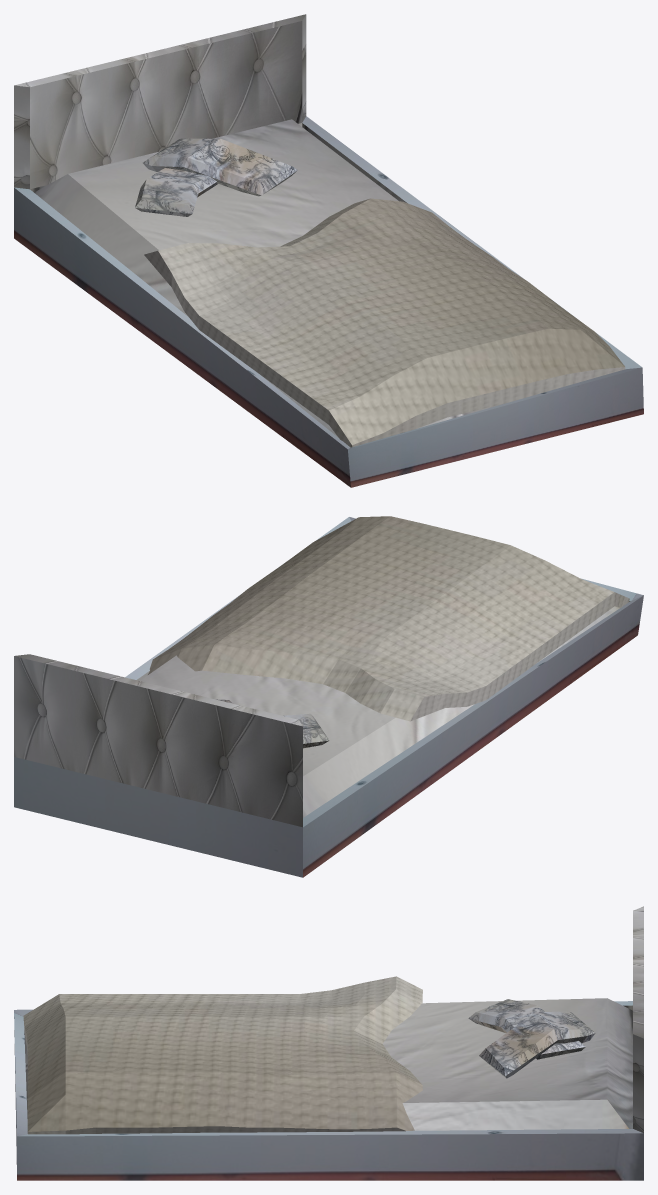
File: Yatak.fbx
3 views of the same model, one above another, from view 1: azimuth 30°, elevation 25°; view 2: azimuth 150°, elevation 25°; view 3: azimuth 270°, elevation 25° (orthographic). The views are drawn at different scales.
Visible parts, largest first — view 1: Cube; view 2: Cube; view 3: Cube.
Part boxes in pixels (x1,y1,x2,y2): Cube: (14,14,643,487); Cube: (14,516,643,877); Cube: (14,906,643,1180).
Bounding box in the file's own units: 306 × 152 × 603.
